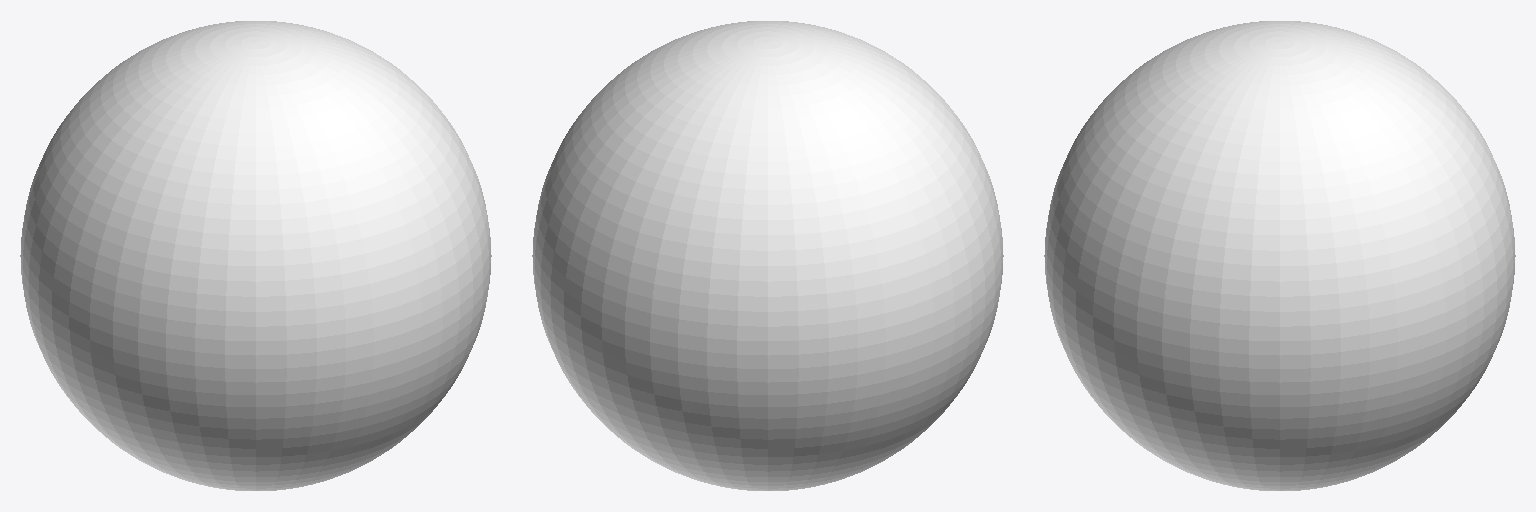
File: atmo_sphere.obj
The picture shows the model from 3 angles: view 1: azimuth 30°, elevation 25°; view 2: azimuth 150°, elevation 25°; view 3: azimuth 270°, elevation 25°; orthographic projection.
Parts seen in each view (by area): view 1: atmo_sphere; view 2: atmo_sphere; view 3: atmo_sphere.
Part boxes in pixels (bbox=[...]): atmo_sphere: bbox=[20, 21, 491, 490]; atmo_sphere: bbox=[532, 21, 1003, 490]; atmo_sphere: bbox=[1044, 21, 1515, 490].
Size of the model in its own units: 104 by 104 by 104.